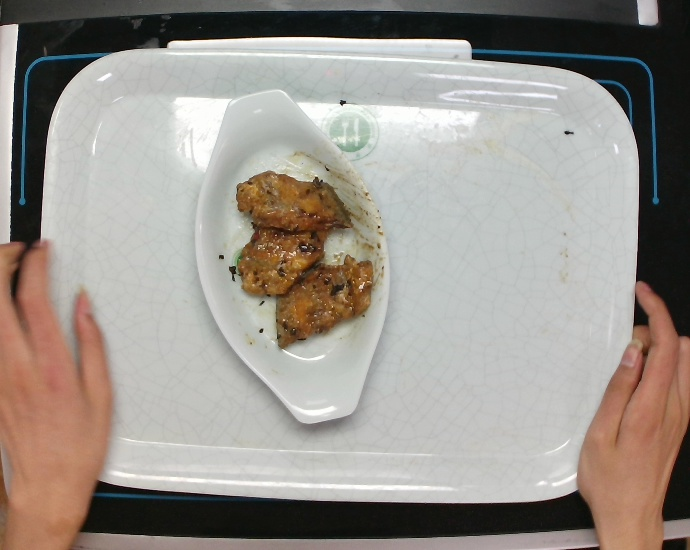JYsf-Yu_Pan: (187, 82, 395, 433)
